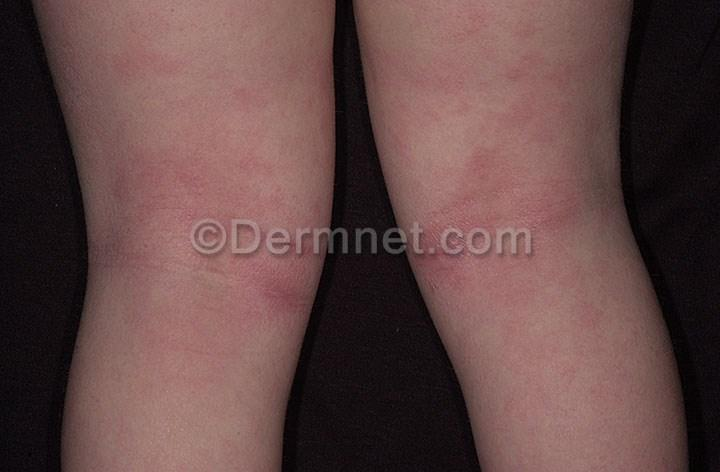eritema 1: (106, 125, 316, 331), (403, 172, 586, 299)
excoriacion 1: (408, 216, 469, 286), (246, 263, 311, 324)
